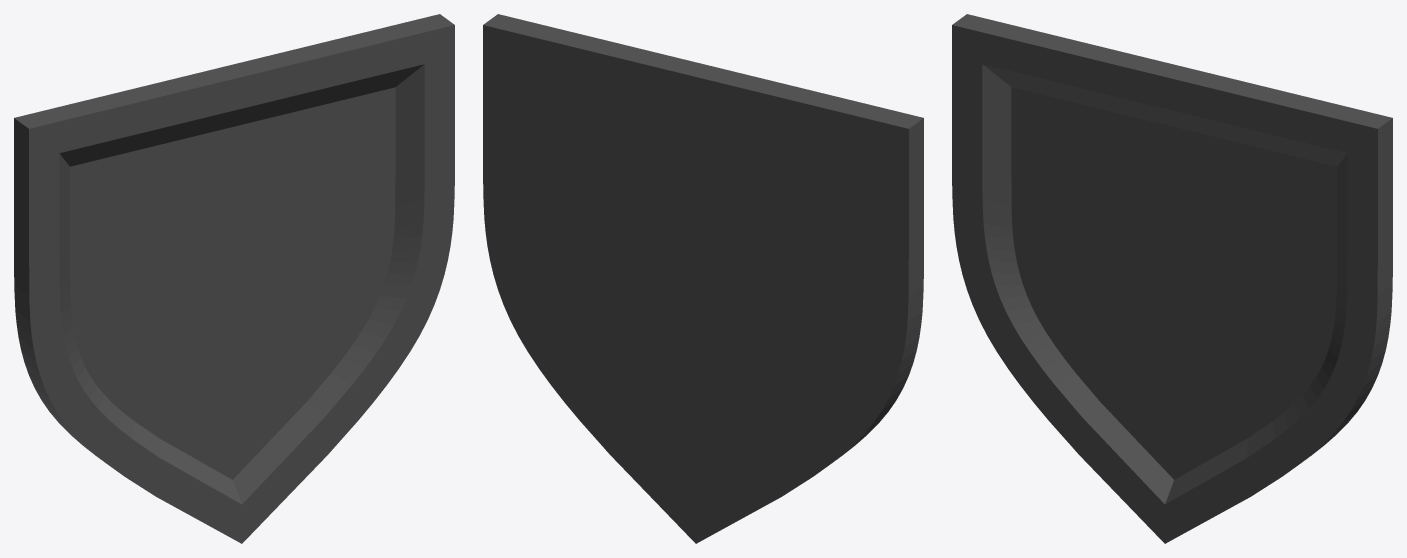
The model's file is hull.obj.
3 renders of one model, left to right at view 1: azimuth 30°, elevation 25°; view 2: azimuth 150°, elevation 25°; view 3: azimuth 330°, elevation 25°, orthographic.
Visible parts, largest first — view 1: Curve.004_CUpath823-6-0; view 2: Curve.004_CUpath823-6-0; view 3: Curve.004_CUpath823-6-0.
Boxes of the visible parts, x1,y1,x2,y2 form: Curve.004_CUpath823-6-0: (14,14,454,543); Curve.004_CUpath823-6-0: (483,14,923,543); Curve.004_CUpath823-6-0: (952,14,1392,543).
Bounding box in the file's own units: 0.8903 × 0.9328 × 0.0544.
Materials: 1 (1 with a texture image).
